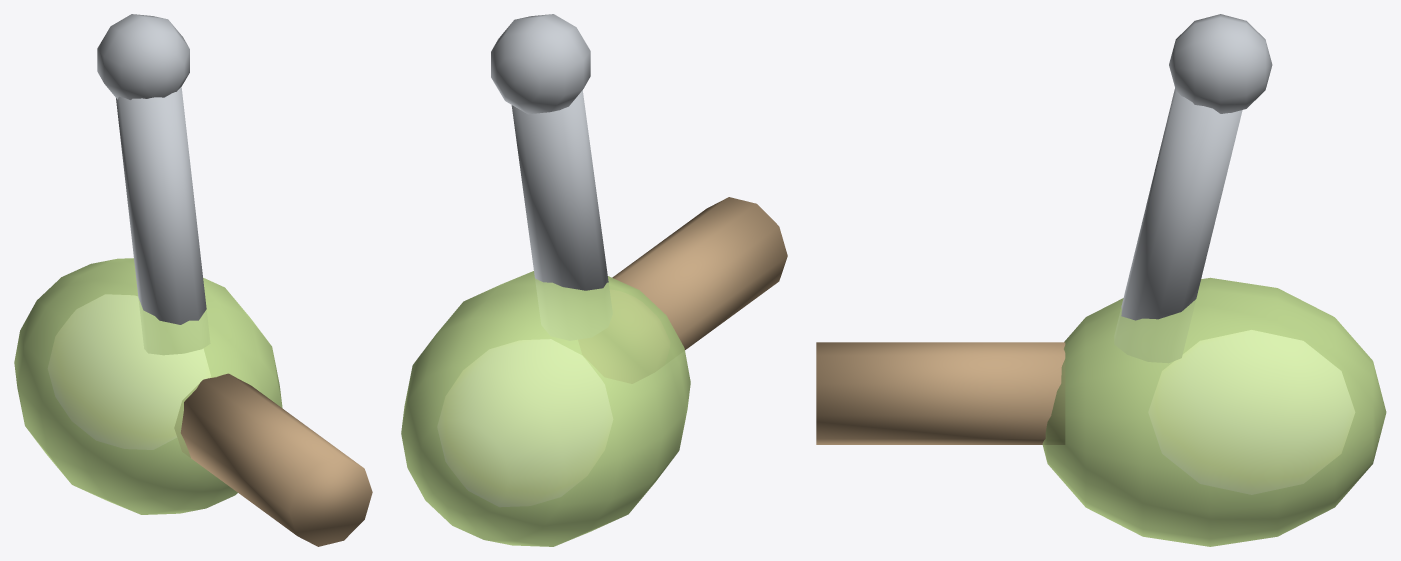
File: Equip_AcidSprayer.fbx
3 views of the same model, side by side, from view 1: azimuth 30°, elevation 25°; view 2: azimuth 150°, elevation 25°; view 3: azimuth 270°, elevation 25° (orthographic). The views are drawn at different scales.
Visible parts, largest first — view 1: Equip_AcidSprayer; view 2: Equip_AcidSprayer; view 3: Equip_AcidSprayer.
Boxes of the visible parts, <box> form: Equip_AcidSprayer: <box>14,14,372,546</box>; Equip_AcidSprayer: <box>401,14,787,546</box>; Equip_AcidSprayer: <box>816,14,1386,546</box>.
Bounding box in the file's own units: 0.26 × 0.55 × 0.55.
